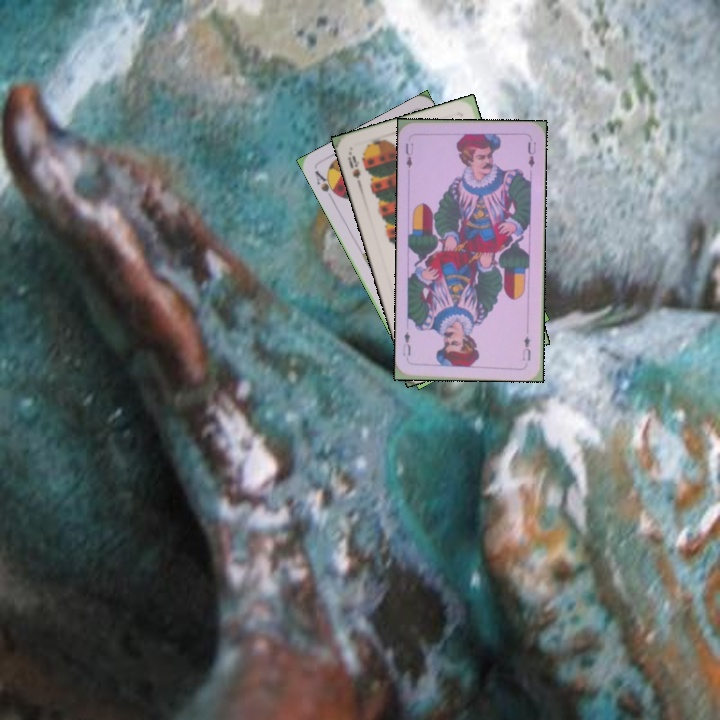EU: (401, 139, 416, 170), (519, 332, 533, 363)
S8: (344, 148, 364, 187)
SA: (311, 166, 341, 203)
